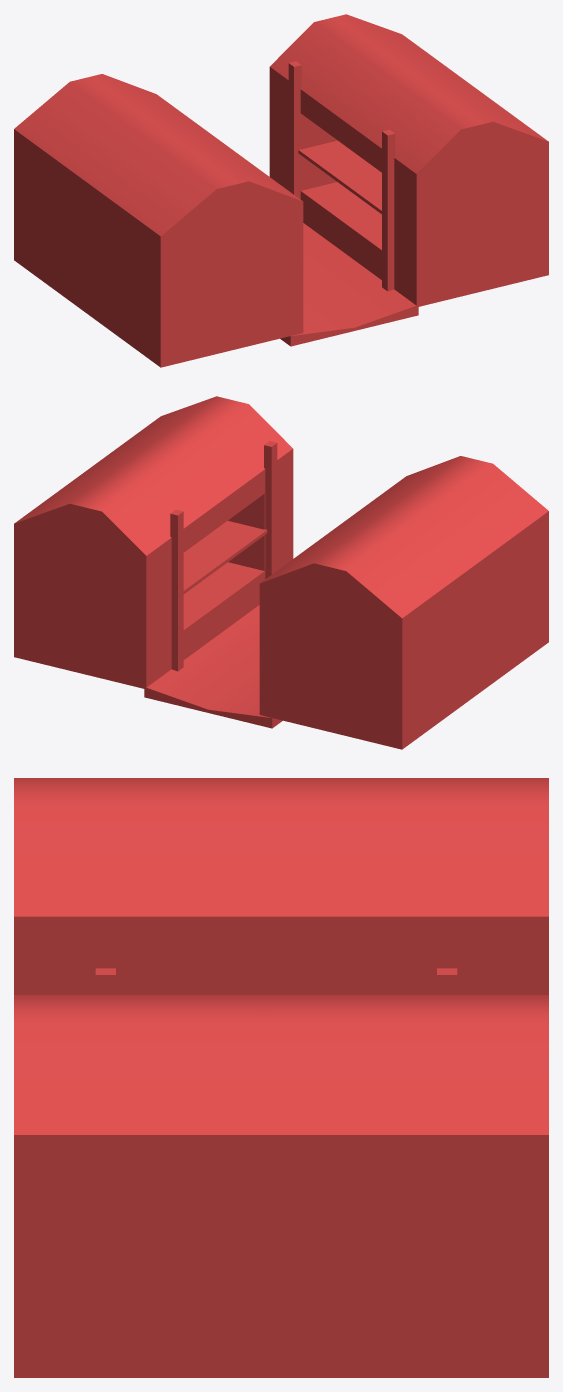
File: Ground_Bed_Wood_COL.fbx
3 renders of one model, top to bottom at view 1: azimuth 30°, elevation 25°; view 2: azimuth 150°, elevation 25°; view 3: azimuth 270°, elevation 25°, orthographic. The views are drawn at different scales.
Parts seen in each view (by area): view 1: Ground_Bed_Wood_COL; view 2: Ground_Bed_Wood_COL; view 3: Ground_Bed_Wood_COL.
Part boxes in pixels (x1=…): Ground_Bed_Wood_COL: x1=14, y1=14, x2=548, y2=367; Ground_Bed_Wood_COL: x1=14, y1=396, x2=548, y2=749; Ground_Bed_Wood_COL: x1=14, y1=778, x2=548, y2=1377.
Bounding box in the file's own units: 611 × 264 × 400.
